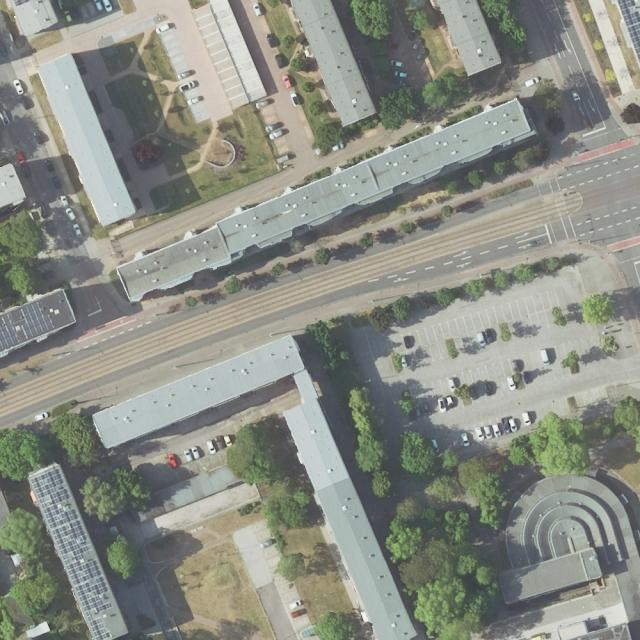PV: (29, 469, 115, 640), (616, 0, 640, 67), (21, 301, 56, 341), (2, 314, 21, 351)
